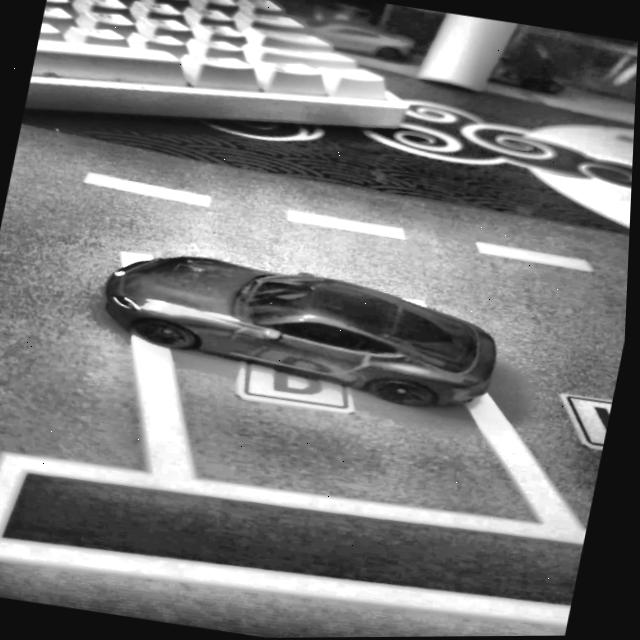car: (93, 240, 515, 422)
